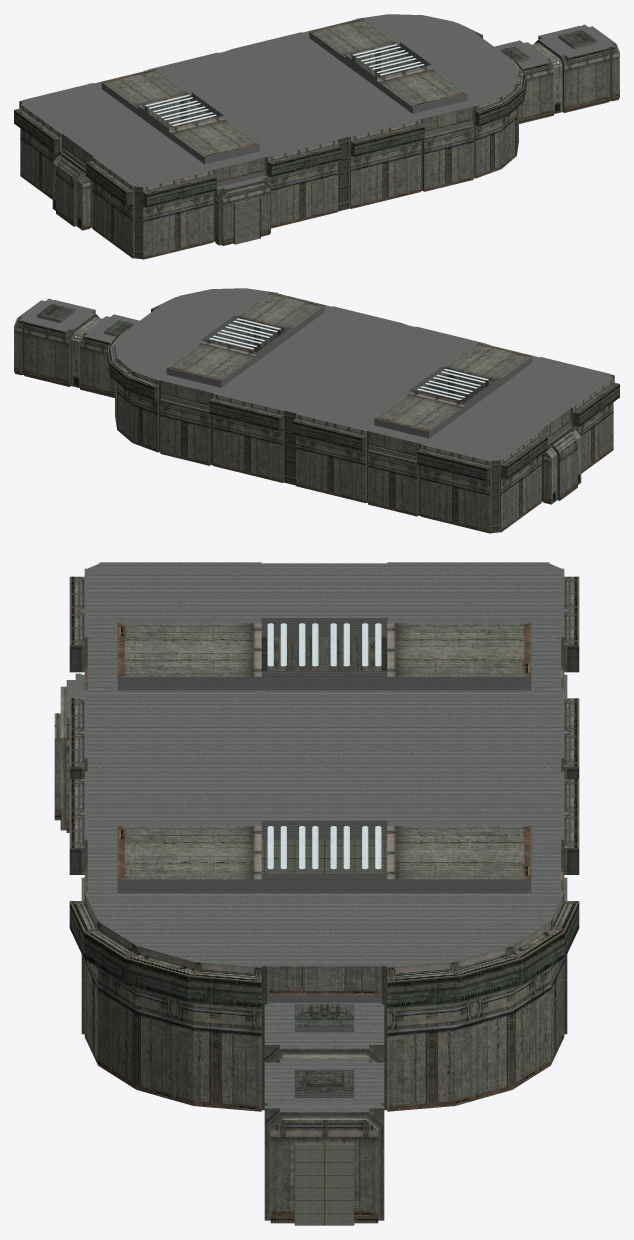
The model's file is poi_all_impl_bunker_crimelord_retreat_s01_r4_guards01_mesh_r4.fbx.
3 renders of one model, top to bottom at view 1: azimuth 30°, elevation 25°; view 2: azimuth 150°, elevation 25°; view 3: azimuth 270°, elevation 25°, orthographic. The views are drawn at different scales.
Visible parts, largest first — view 1: mesh_node; view 2: mesh_node; view 3: mesh_node.
Boxes of the visible parts, <box> form: mesh_node: <box>14,14,619,259</box>; mesh_node: <box>14,288,619,533</box>; mesh_node: <box>54,562,579,1225</box>.
Bounding box in the file's own units: 41.9 × 6 × 17.5.
